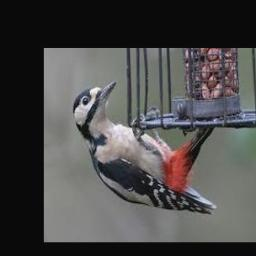Woodpecker: (72, 81, 216, 215)
